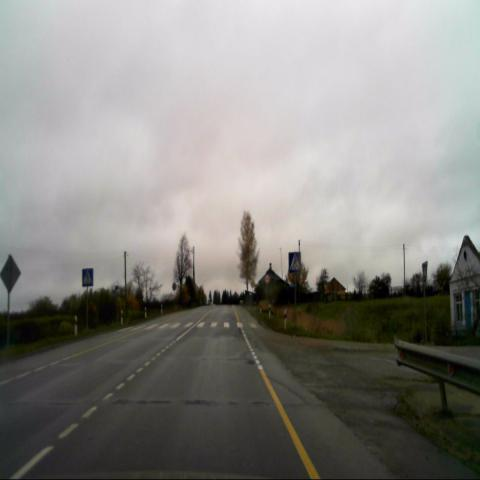5_19_1: (288, 250, 302, 274), (81, 266, 94, 287)
